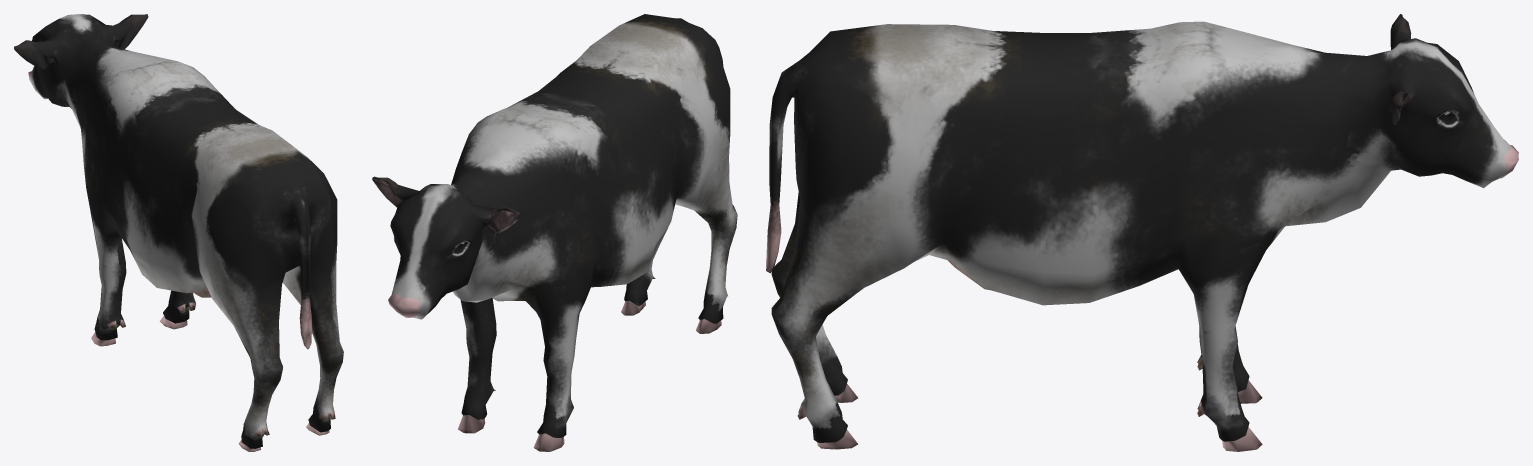
Rendered from PolishCow.fbx.
3 renders of one model, left to right at view 1: azimuth 30°, elevation 25°; view 2: azimuth 150°, elevation 25°; view 3: azimuth 270°, elevation 25°, orthographic. The views are drawn at different scales.
Visible parts, largest first — view 1: PolishCow; view 2: PolishCow; view 3: PolishCow.
Part boxes in pixels (bbox=[...]): PolishCow: bbox=[14, 14, 343, 451]; PolishCow: bbox=[372, 14, 737, 451]; PolishCow: bbox=[766, 14, 1518, 451].
Bounding box in the file's own units: 0.7979 × 2.78 × 1.57.
Materials: 1 (1 with a texture image).
